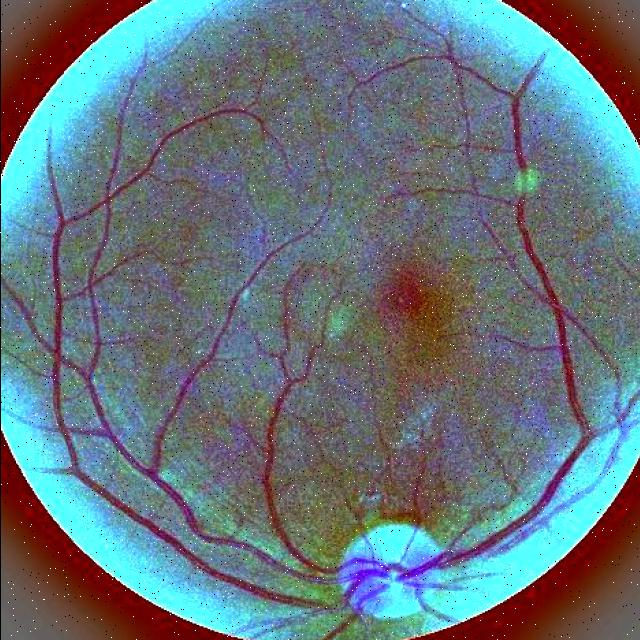Macula: (386, 276, 421, 316)
Nerves: (37, 83, 596, 613)
Optic Disk: (336, 524, 435, 619)
